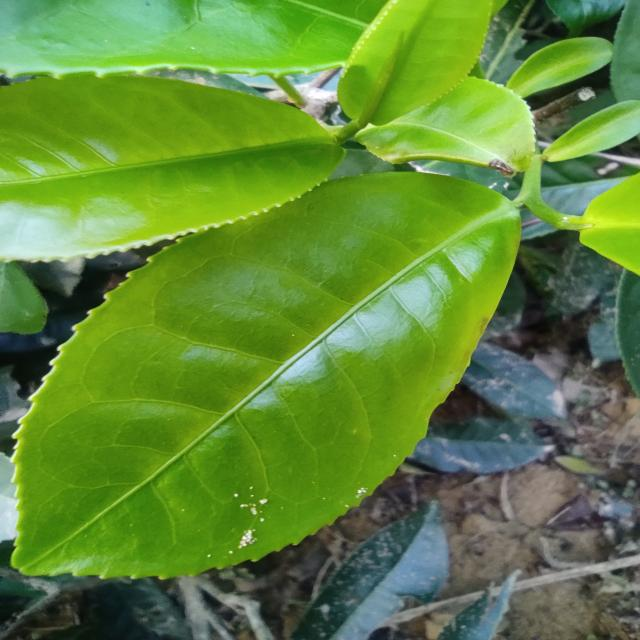Category C 4-7 days: (4, 145, 584, 588)
